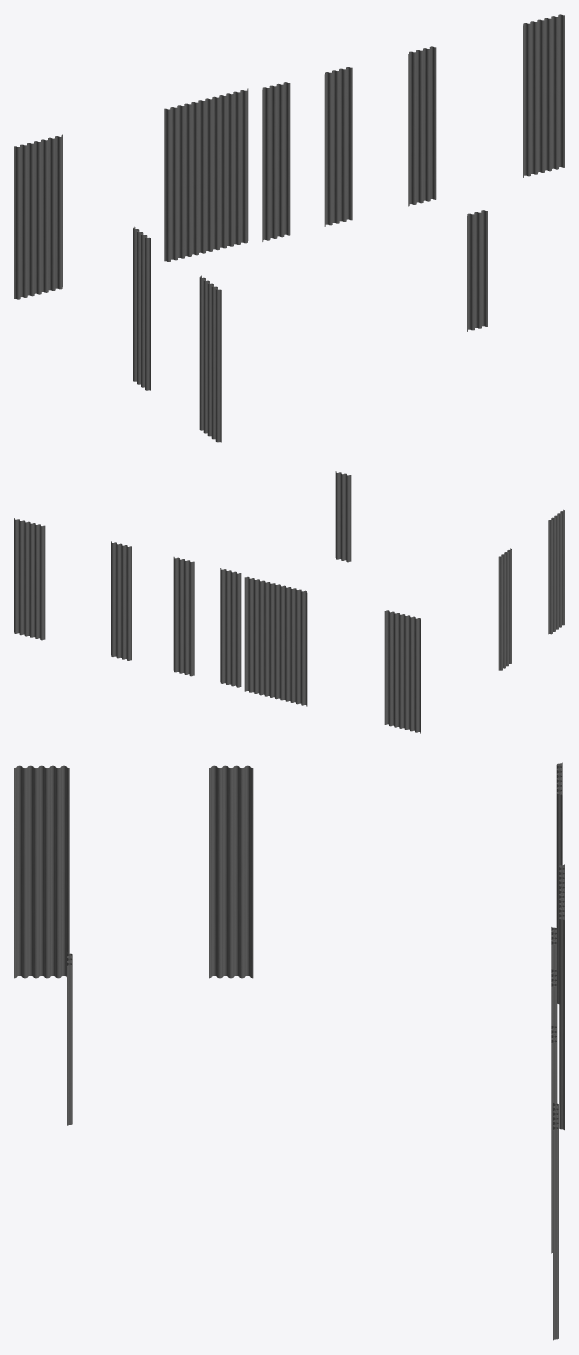
Rendered from Curtain.obj.
The picture shows the model from 3 angles, top to bottom: view 1: azimuth 30°, elevation 25°; view 2: azimuth 150°, elevation 25°; view 3: azimuth 270°, elevation 25°; orthographic projection. The views are drawn at different scales.
Bounding box in the file's own units: 9.88 × 2.63 × 6.25.
Materials: 1 (1 with a texture image).
